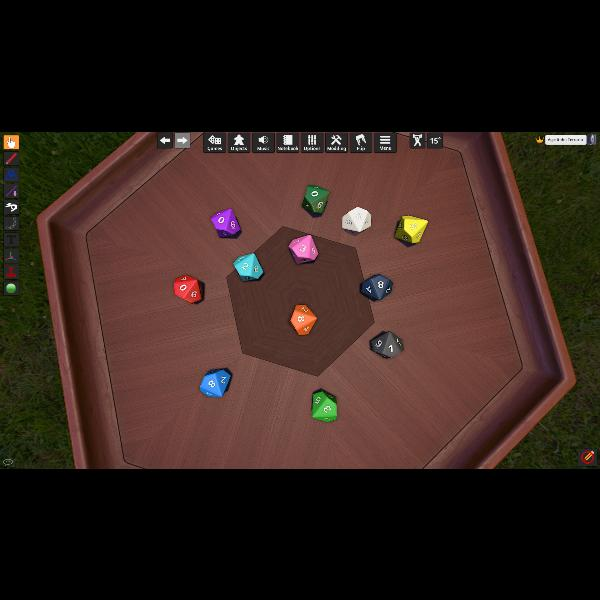d10: (199, 366, 231, 396), (394, 214, 424, 244), (174, 274, 204, 304), (370, 330, 402, 358), (233, 252, 263, 280), (210, 208, 240, 236), (288, 234, 316, 264), (290, 304, 316, 336), (312, 389, 337, 421), (302, 184, 328, 214), (360, 274, 390, 300), (341, 205, 369, 232)
